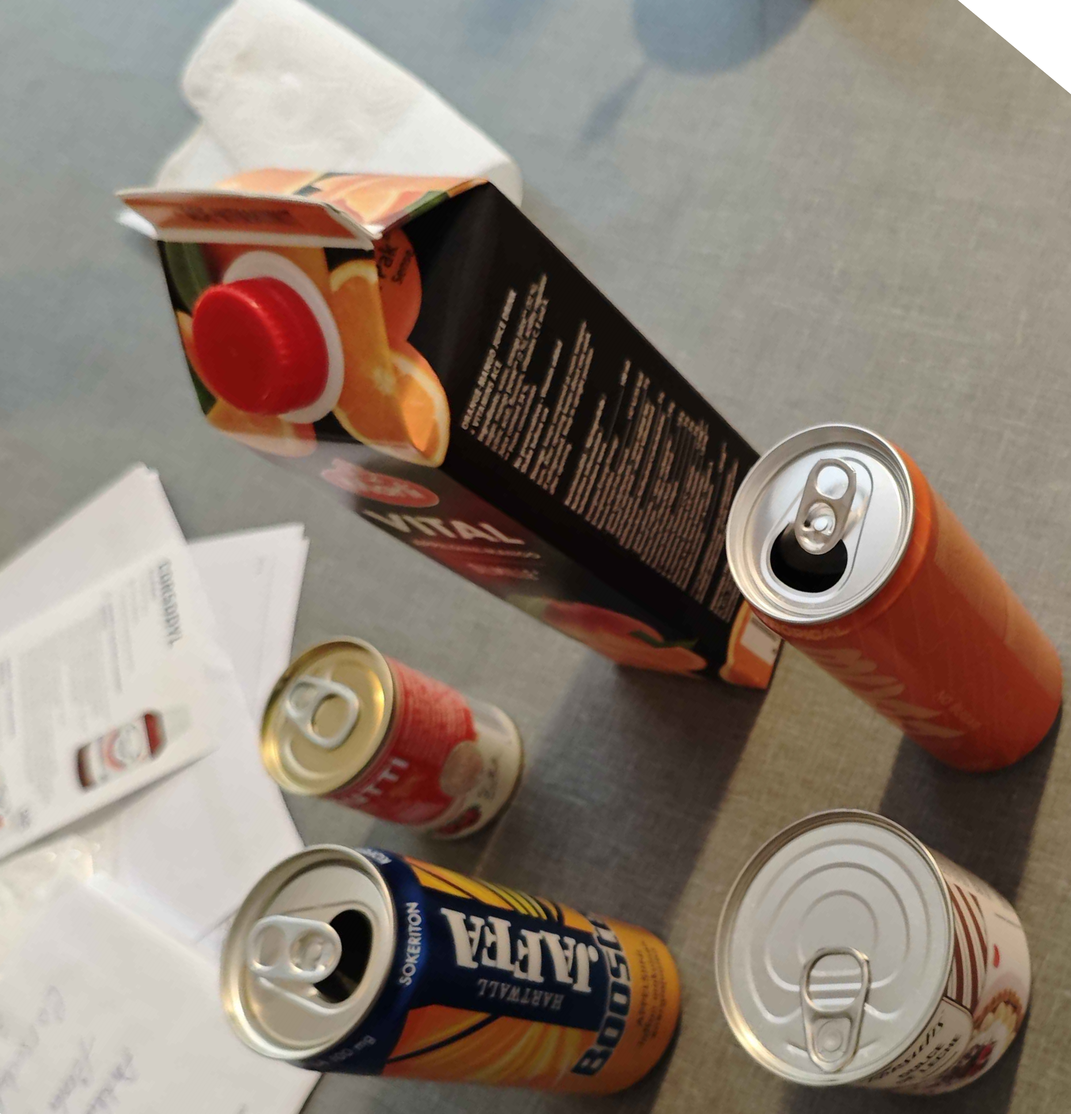Dryckeskartong: (122, 174, 781, 703)
Konservburk: (707, 806, 1037, 1096), (245, 634, 538, 834)
Pantburk: (725, 422, 1066, 773), (221, 844, 681, 1096)
